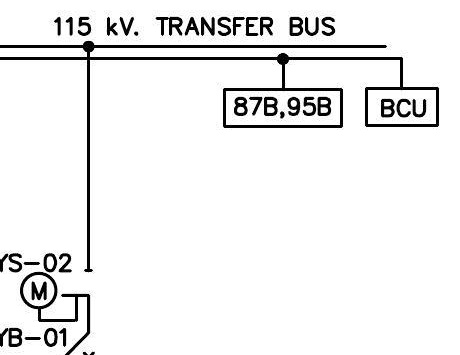115_1way_ds_w_motor: (19, 268, 93, 322)
BCU: (364, 86, 440, 128)
